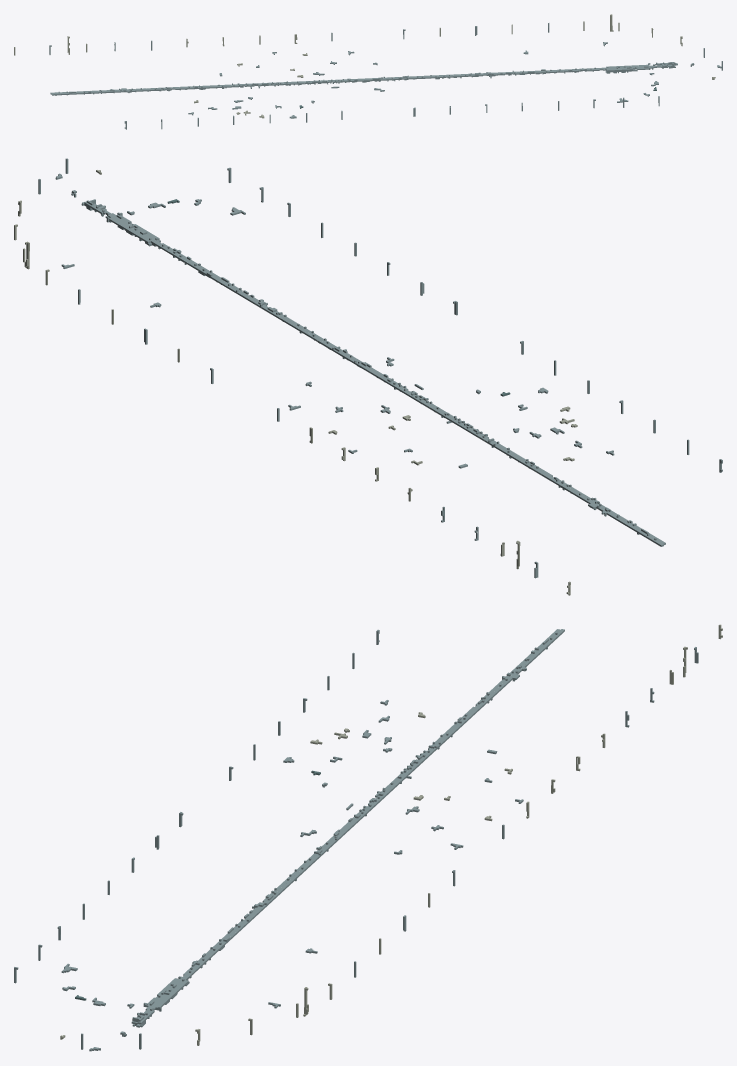
3 renders of one model, top to bottom at view 1: azimuth 30°, elevation 25°; view 2: azimuth 150°, elevation 25°; view 3: azimuth 270°, elevation 25°, orthographic. The views are drawn at different scales.
Parts seen in each view (by area): view 1: measured-industrial; view 2: measured-industrial; view 3: measured-industrial.
Part boxes in pixels (x1,y1,x2,y2): measured-industrial: (14,14,722,129); measured-industrial: (14,158,722,595); measured-industrial: (14,624,722,1051).
Size of the model in its own units: 533 by 20.49 by 376.
